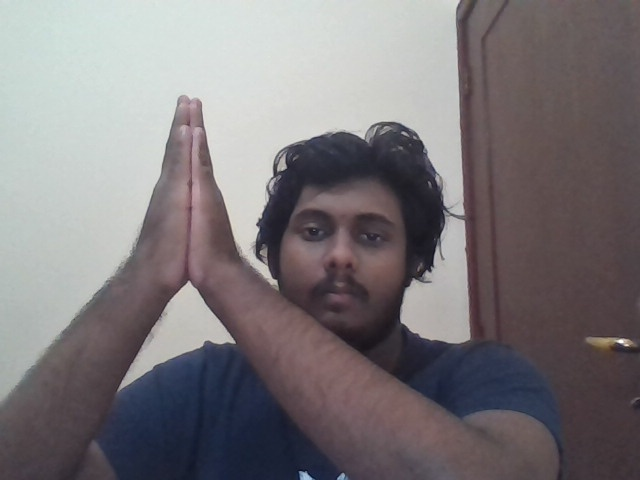namaste: (139, 94, 239, 287)
